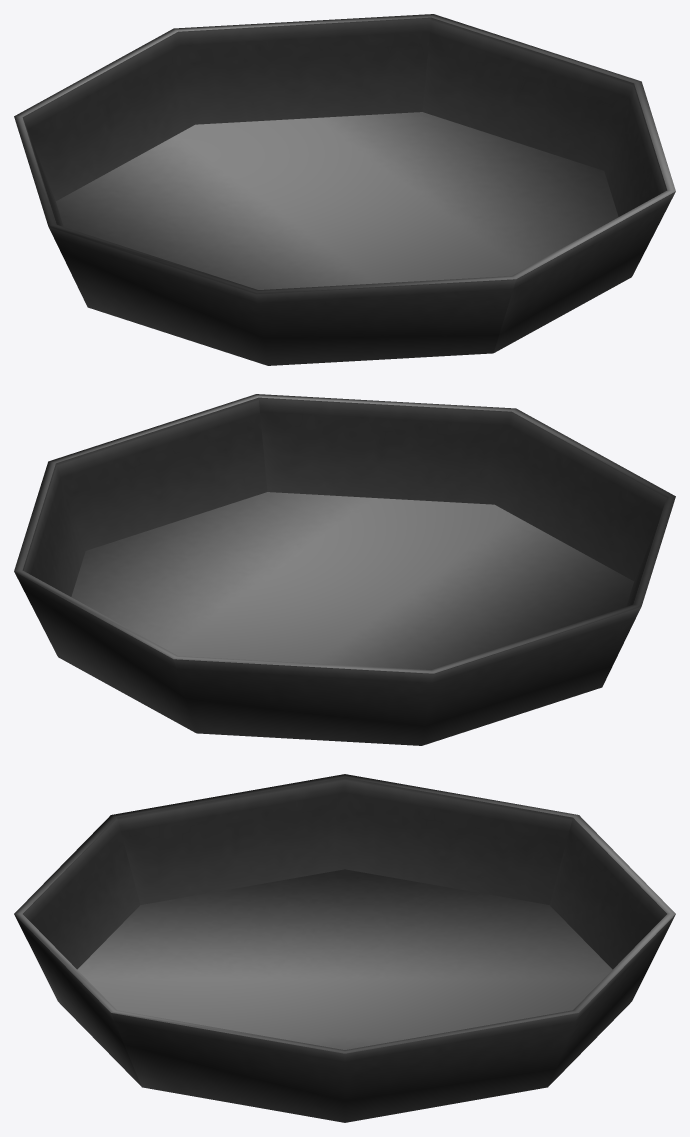
File: Pie_Tin2.FBX
3 views of the same model, one above another, from view 1: azimuth 30°, elevation 25°; view 2: azimuth 150°, elevation 25°; view 3: azimuth 270°, elevation 25° (orthographic). The views are drawn at different scales.
Parts seen in each view (by area): view 1: Pie_Tin; view 2: Pie_Tin; view 3: Pie_Tin.
Boxes of the visible parts, x1,y1,x2,y2 form: Pie_Tin: (14,14,675,365); Pie_Tin: (14,394,675,745); Pie_Tin: (14,774,675,1122).
Size of the model in its own units: 111 by 16.29 by 111.
